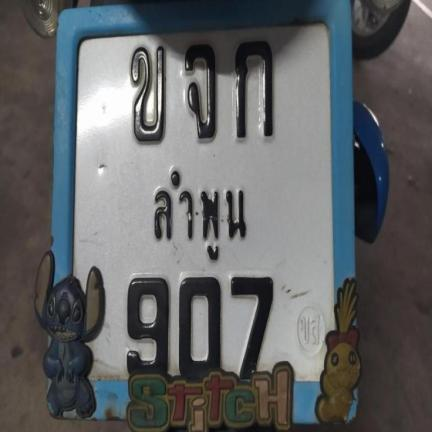0: (178, 274, 226, 377)
7: (227, 273, 279, 377)
9: (117, 273, 174, 380)
A01: (227, 35, 280, 140)
A02: (117, 42, 173, 144)
A08: (178, 37, 220, 145)
LPN: (133, 160, 261, 261)
